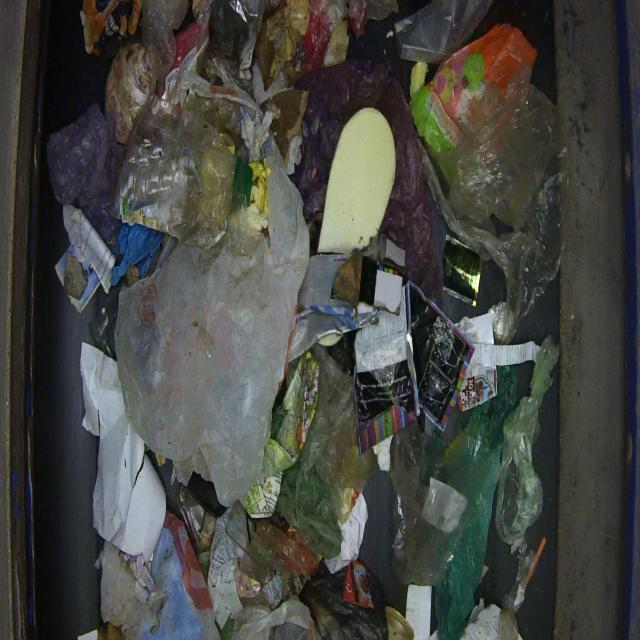other-trash: (44, 0, 563, 638)
